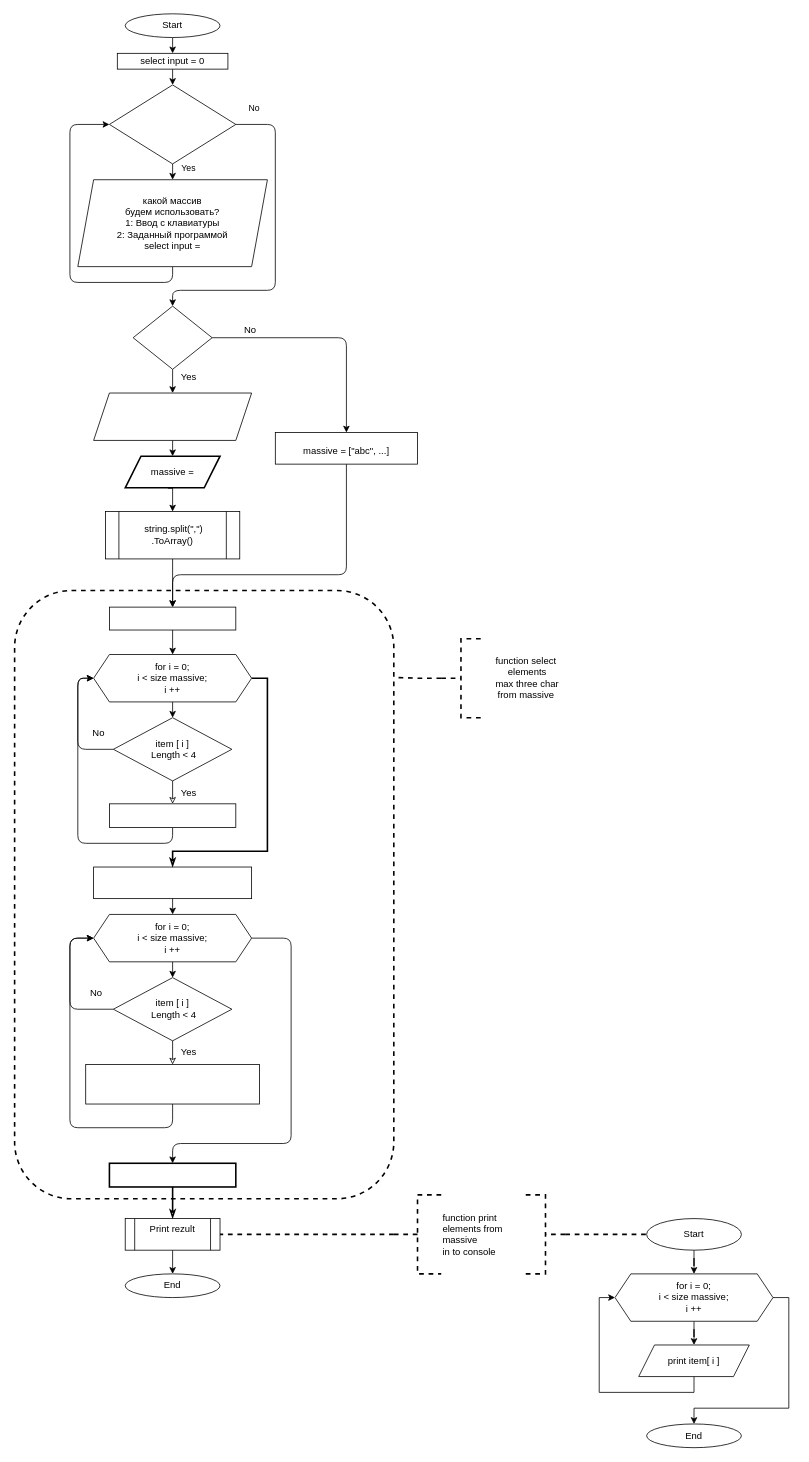
Some shapes in this 809 by 1462 pixel diagram are drawn without their labels. Here are the shapes that lost their labels. From the top down, the centre of each, then its label:
[172,124]: while select != 1 | 2
[172,337]: select = 1
[172,416]: Введите элементы массива через запятую
[172,618]: count = 0
[172,815]: count += 1
[172,882]: rezult = NewArray count = 0
[172,1084]: rezult [ count ] = item [ i ] ; count += 1
[172,1174]: Return NewArray
